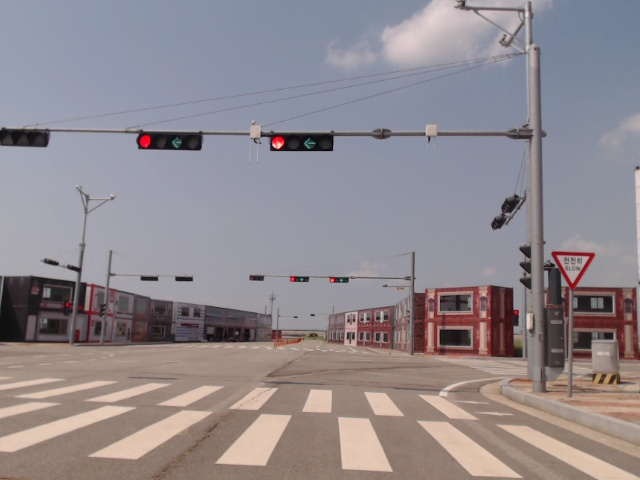left_green_4: (137, 132, 202, 151), (269, 135, 334, 153), (330, 277, 349, 284), (290, 276, 309, 282)
